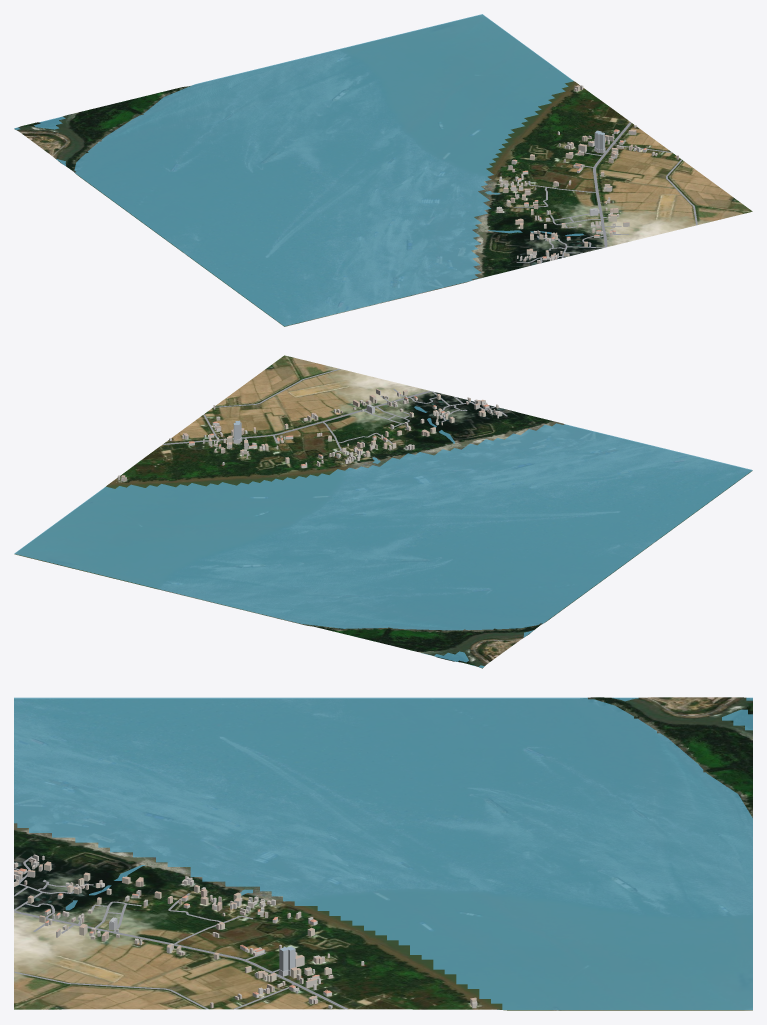
3 renders of one model, top to bottom at view 1: azimuth 30°, elevation 25°; view 2: azimuth 150°, elevation 25°; view 3: azimuth 270°, elevation 25°, orthographic. The views are drawn at different scales.
Parts seen in each view (by area): view 1: TERRAIN, WATER, ROAD_METRO, BLDG_TUBE_HOUSE, BLDG_SHOPHOUSE; view 2: TERRAIN, WATER, BLDG_TUBE_HOUSE, ROAD_METRO, BLDG_SHOPHOUSE; view 3: TERRAIN, WATER, ROAD_METRO, BLDG_TUBE_HOUSE, BLDG_SHOPHOUSE, BLDG_VILLA.
Part boxes in pixels (x1=…): TERRAIN: x1=14, y1=15, x2=752, y2=326; WATER: x1=14, y1=14, x2=583, y2=326; ROAD_METRO: x1=514, y1=122, x2=697, y2=262; BLDG_TUBE_HOUSE: x1=496, y1=85, x2=678, y2=263; BLDG_SHOPHOUSE: x1=503, y1=85, x2=636, y2=260; TERRAIN: x1=14, y1=355, x2=752, y2=668; WATER: x1=14, y1=406, x2=752, y2=667; BLDG_TUBE_HOUSE: x1=117, y1=392, x2=502, y2=481; ROAD_METRO: x1=163, y1=369, x2=507, y2=452; BLDG_SHOPHOUSE: x1=121, y1=389, x2=485, y2=481; TERRAIN: x1=14, y1=697, x2=752, y2=1010; WATER: x1=14, y1=697, x2=752, y2=1009; ROAD_METRO: x1=14, y1=856, x2=347, y2=1009; BLDG_TUBE_HOUSE: x1=14, y1=854, x2=477, y2=1008; BLDG_SHOPHOUSE: x1=14, y1=861, x2=476, y2=1005; BLDG_VILLA: x1=18, y1=868, x2=331, y2=997.
Size of the model in its own units: 2000 by 79.62 by 2000.
8 materials, 1 textured.
